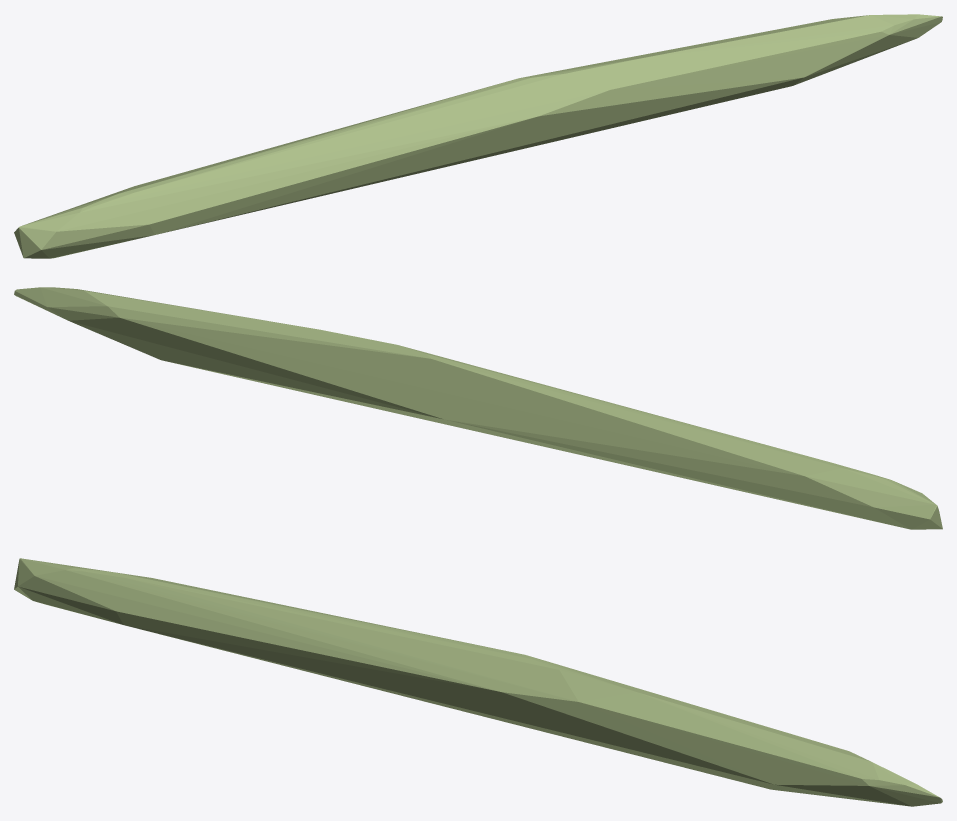
Rendered from stationery_pen_plastic_a01.glb.
3 views of the same model, one above another, from view 1: azimuth 30°, elevation 25°; view 2: azimuth 150°, elevation 25°; view 3: azimuth 330°, elevation 25° (orthographic).
Parts seen in each view (by area): view 1: geometry_0; view 2: geometry_0; view 3: geometry_0.
Boxes of the visible parts, <box> form: geometry_0: <box>14,14,942,258</box>; geometry_0: <box>14,287,942,529</box>; geometry_0: <box>14,558,942,806</box>.
Bounding box in the file's own units: 0.4792 × 0.0323 × 0.0313.
